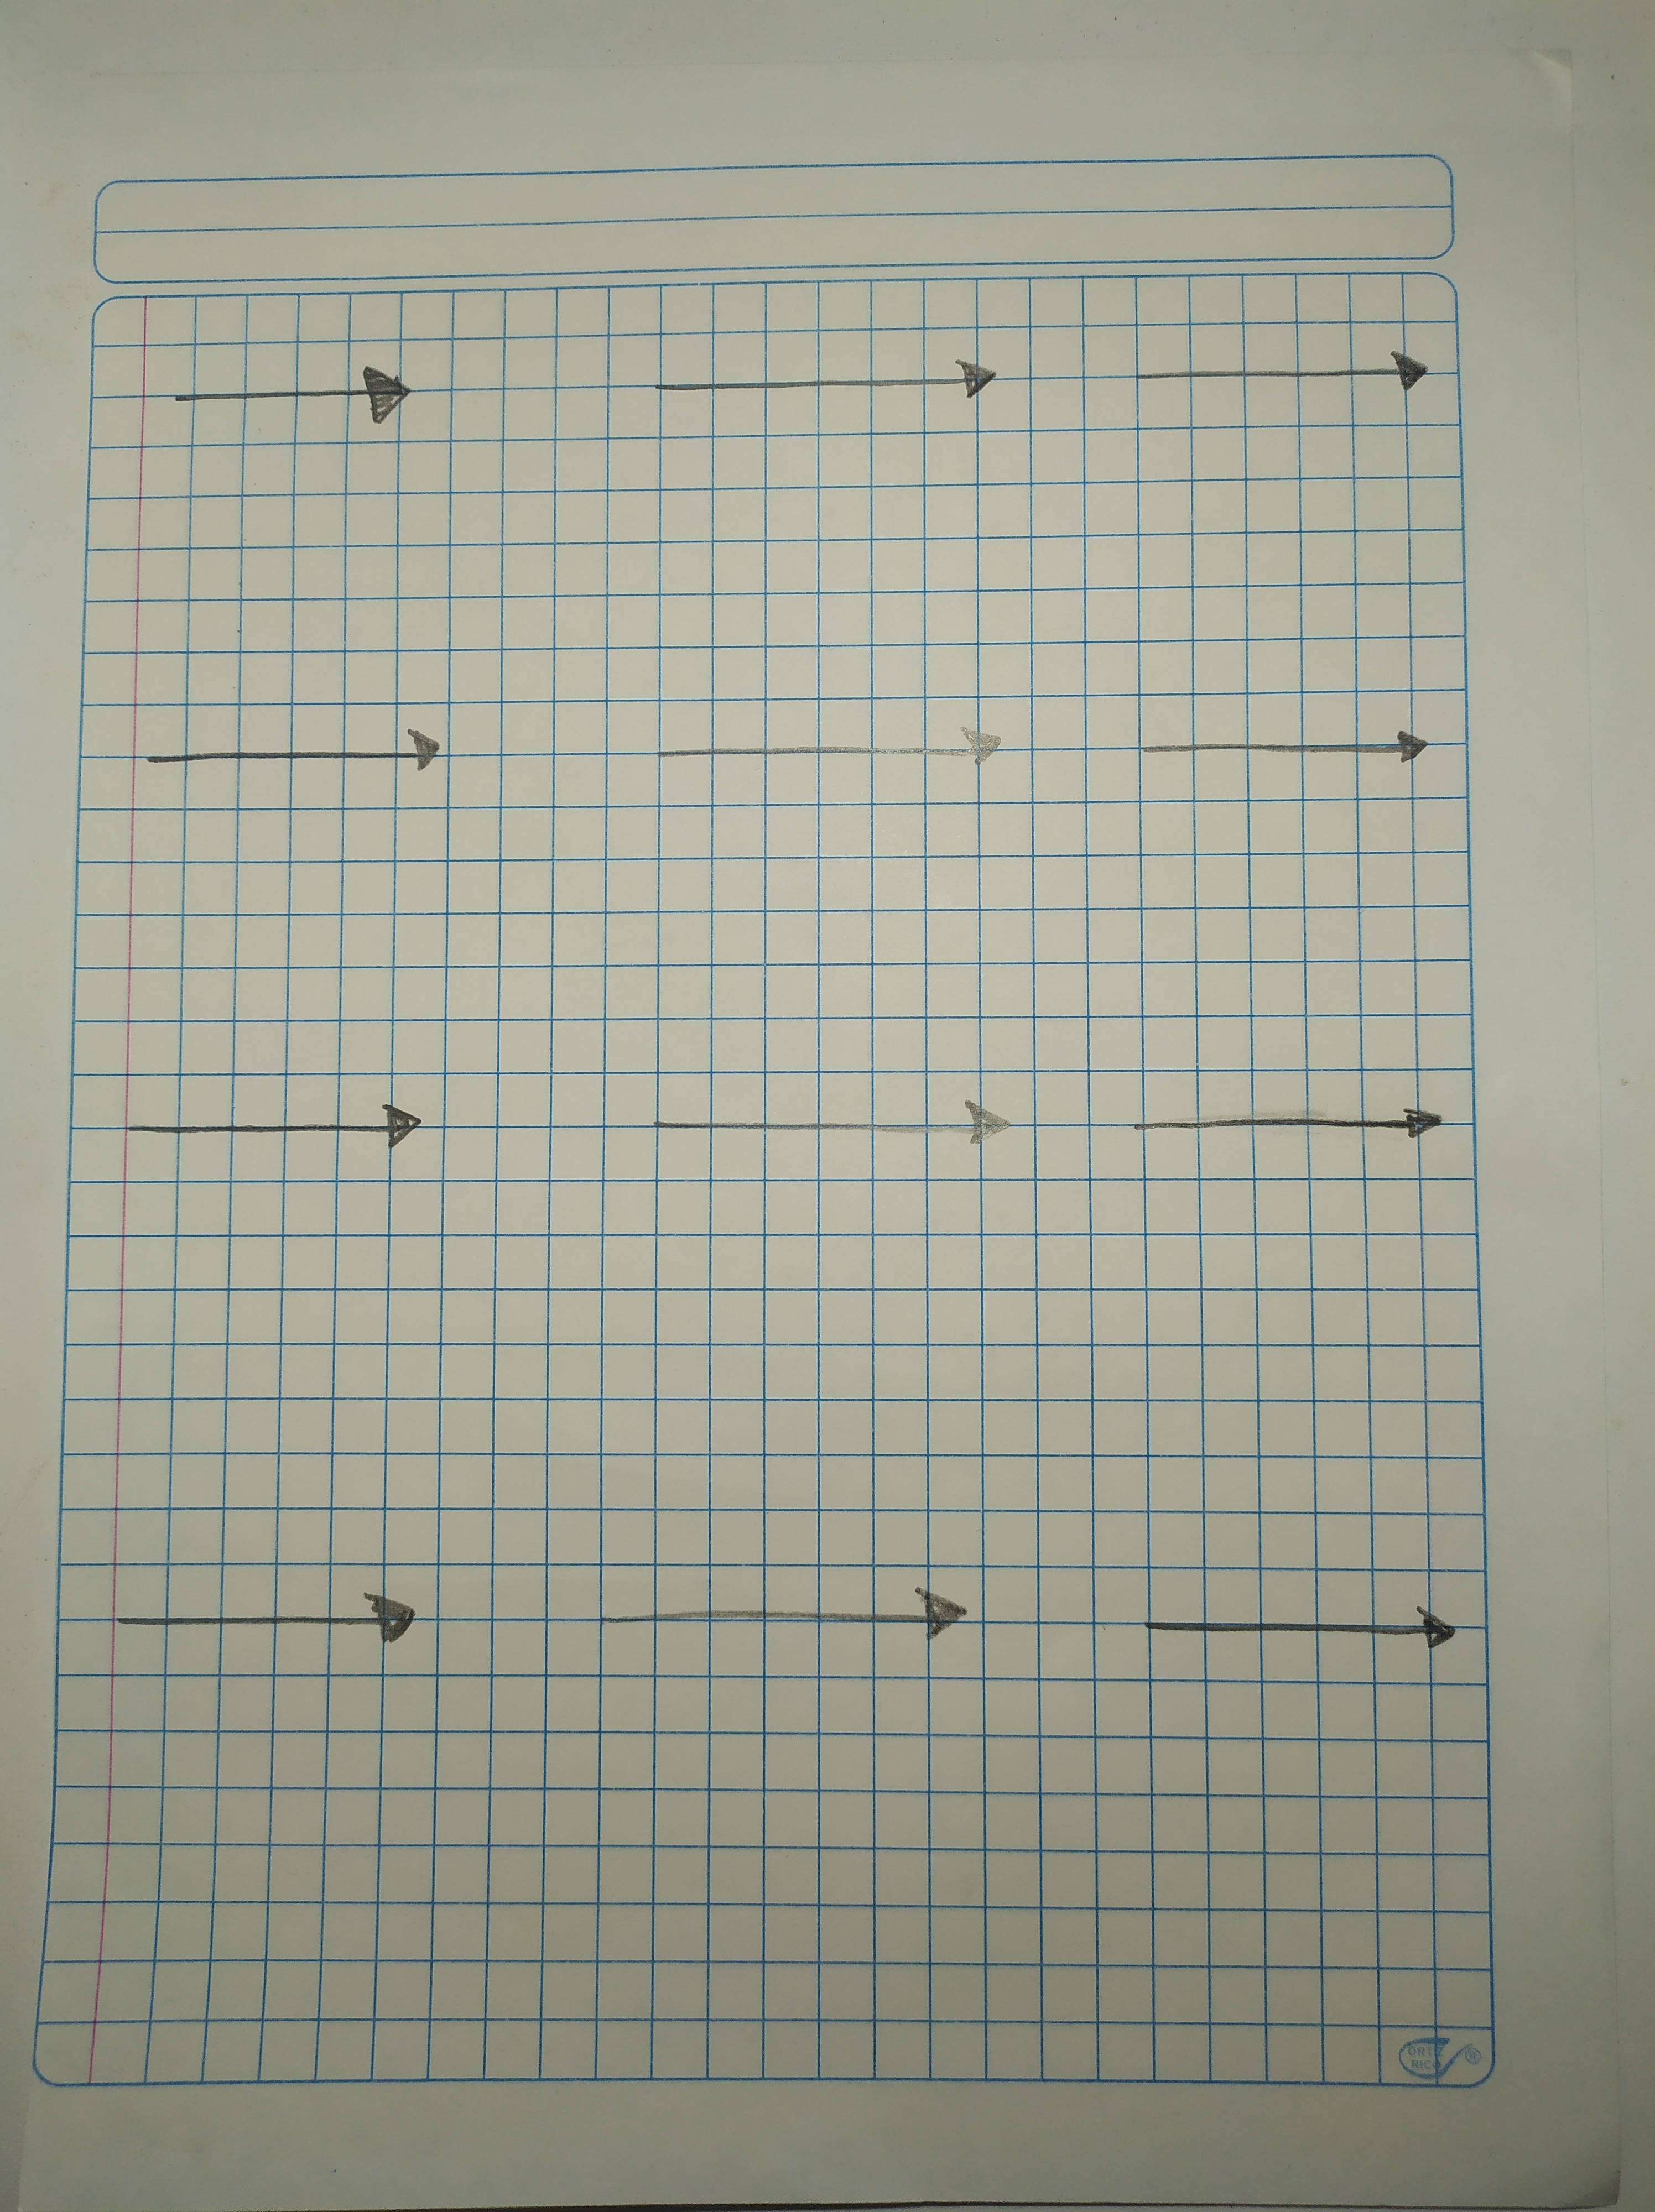arrow_line_right: (544, 1540, 1031, 1691), (621, 1069, 1047, 1201), (1093, 1573, 1495, 1691), (638, 332, 1015, 440), (1109, 1069, 1474, 1173), (635, 699, 1038, 792), (89, 1585, 471, 1682), (115, 699, 473, 801), (1107, 327, 1438, 434), (1130, 702, 1446, 799), (151, 353, 455, 452), (96, 1084, 442, 1166)
